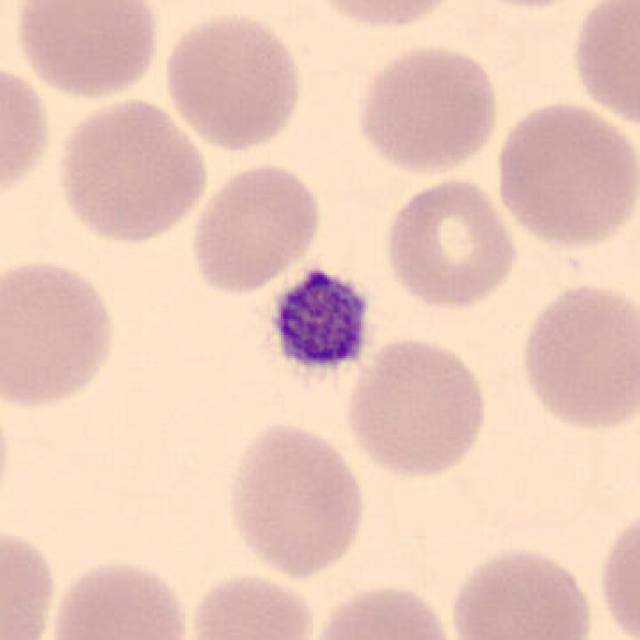Platelets: (258, 261, 375, 386)
RBC: (220, 416, 372, 582), (52, 93, 212, 247), (340, 332, 492, 482), (491, 97, 638, 252), (158, 5, 308, 155), (350, 39, 503, 178), (378, 173, 522, 312), (0, 254, 123, 414), (514, 277, 638, 435), (185, 159, 325, 296), (8, 0, 163, 102), (445, 541, 599, 640), (42, 553, 193, 640), (181, 567, 321, 640), (304, 578, 460, 640), (565, 0, 639, 130), (0, 58, 55, 212), (0, 520, 60, 640), (594, 497, 640, 640), (302, 0, 467, 33), (455, 0, 606, 12)
